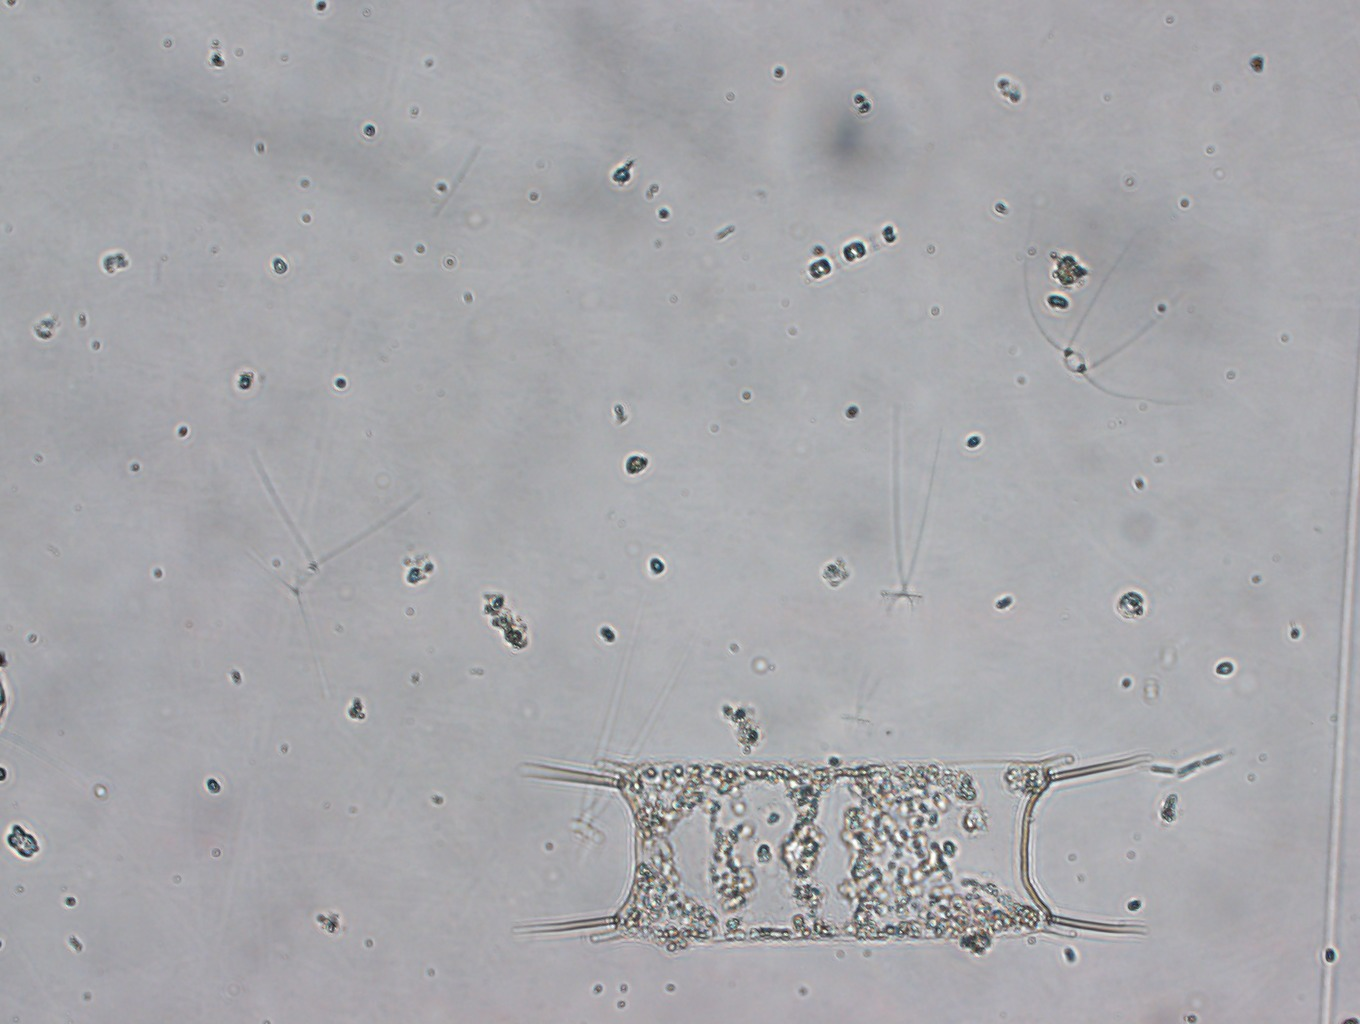biddulphia: (527, 725, 1236, 973)
